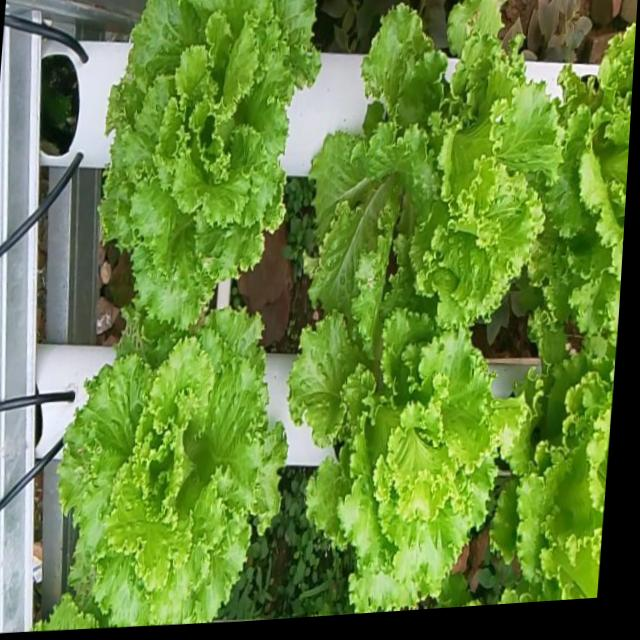Mature: (312, 0, 579, 329), (99, 0, 327, 345), (52, 305, 293, 623), (294, 307, 547, 608)
